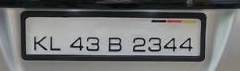2: (132, 37, 147, 53)
3: (148, 35, 163, 53), (85, 36, 100, 52)
4: (69, 36, 84, 51), (163, 37, 177, 53), (180, 37, 193, 52)
B: (108, 35, 123, 52)
K: (32, 35, 48, 51)
L: (48, 36, 62, 51)
